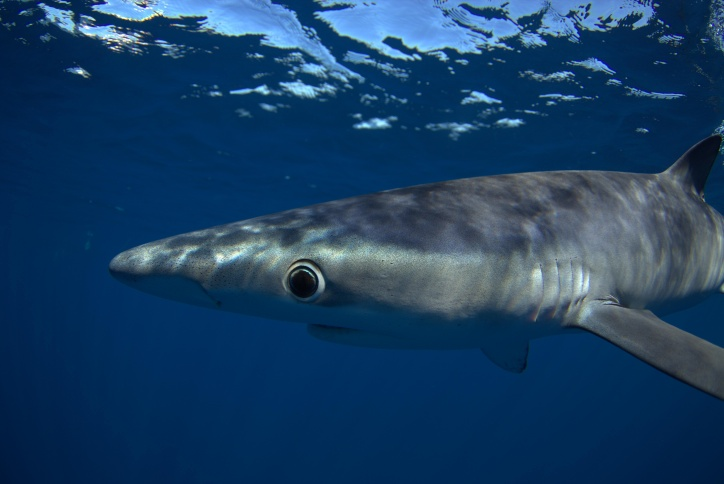Azul: (100, 99, 724, 408)
